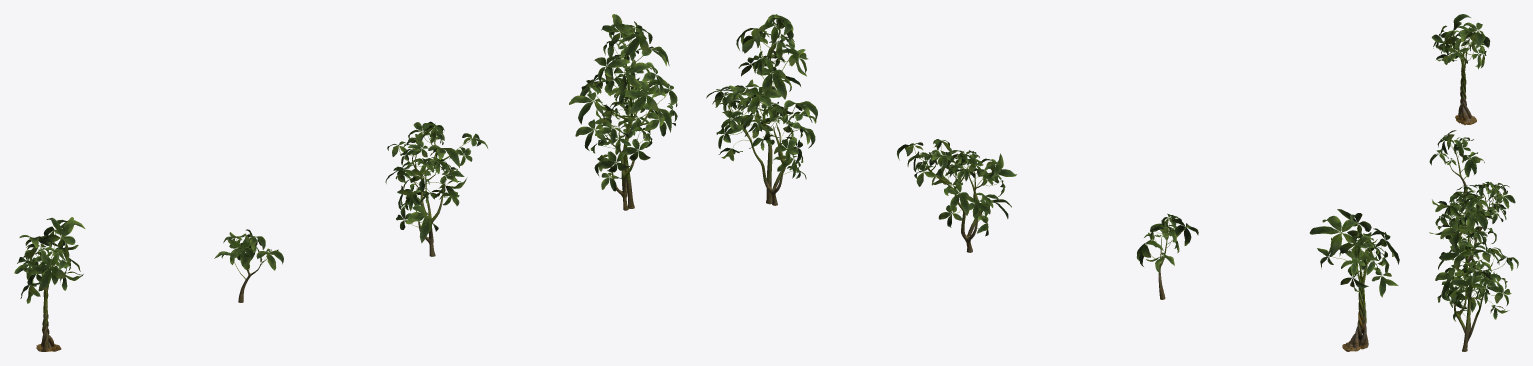
The model's file is pachira_aquatica_01.gltf.
3 renders of one model, left to right at view 1: azimuth 30°, elevation 25°; view 2: azimuth 150°, elevation 25°; view 3: azimuth 270°, elevation 25°, orthographic. The views are drawn at different scales.
Parts seen in each view (by area): view 1: pachira_aquatica_01_leaves_d, pachira_aquatica_01_leaves_c, pachira_aquatica_01_leaves_a, pachira_aquatica_01_leaves_b, pachira_aquatica_01_bark_d, pachira_aquatica_01_bark_c, pachira_aquatica_01_bark_a; view 2: pachira_aquatica_01_leaves_d, pachira_aquatica_01_leaves_c, pachira_aquatica_01_leaves_a, pachira_aquatica_01_leaves_b, pachira_aquatica_01_bark_d, pachira_aquatica_01_bark_a, pachira_aquatica_01_bark_c; view 3: pachira_aquatica_01_leaves_d, pachira_aquatica_01_leaves_c, pachira_aquatica_01_leaves_a, pachira_aquatica_01_leaves_b, pachira_aquatica_01_bark_d, pachira_aquatica_01_bark_a, pachira_aquatica_01_bark_c, pachira_aquatica_01_bark_b.
Boxes of the visible parts, x1,y1,x2,y2 form: pachira_aquatica_01_leaves_d: (569,14,677,191); pachira_aquatica_01_leaves_c: (385,121,487,243); pachira_aquatica_01_leaves_a: (14,217,85,303); pachira_aquatica_01_leaves_b: (214,229,283,279); pachira_aquatica_01_bark_d: (595,44,652,210); pachira_aquatica_01_bark_c: (409,137,457,256); pachira_aquatica_01_bark_a: (36,265,61,351); pachira_aquatica_01_leaves_d: (706,14,817,179); pachira_aquatica_01_leaves_c: (897,139,1016,236); pachira_aquatica_01_leaves_a: (1309,209,1399,297); pachira_aquatica_01_leaves_b: (1136,213,1198,274); pachira_aquatica_01_bark_d: (728,43,793,205); pachira_aquatica_01_bark_a: (1342,259,1368,351); pachira_aquatica_01_bark_c: (923,159,989,252); pachira_aquatica_01_leaves_d: (1429,190,1518,321); pachira_aquatica_01_leaves_c: (1432,181,1515,244); pachira_aquatica_01_leaves_a: (1431,14,1490,69); pachira_aquatica_01_leaves_b: (1429,130,1484,179); pachira_aquatica_01_bark_d: (1454,219,1492,351); pachira_aquatica_01_bark_a: (1455,50,1476,125); pachira_aquatica_01_bark_c: (1453,190,1497,268); pachira_aquatica_01_bark_b: (1447,149,1467,195).
Bounding box in the file's own units: 6.87 × 1.9 × 0.997.
2 materials, 2 textured.
